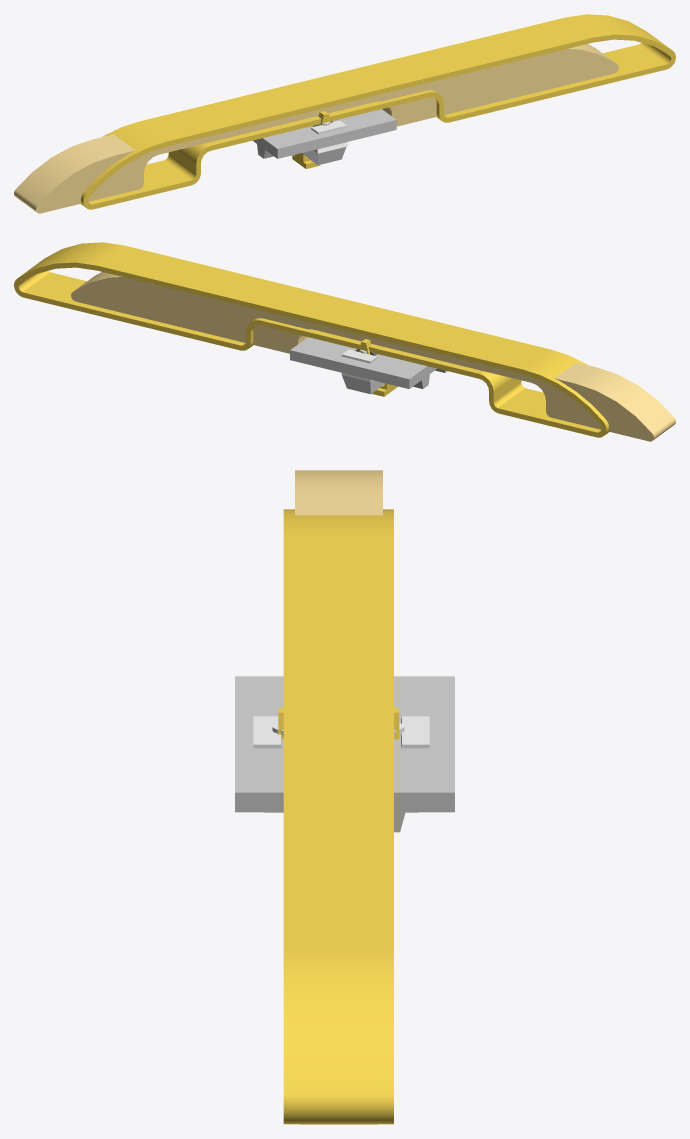
Rendered from Fil Merkezlenmiş.fbx.
3 renders of one model, top to bottom at view 1: azimuth 30°, elevation 25°; view 2: azimuth 150°, elevation 25°; view 3: azimuth 270°, elevation 25°, orthographic. The views are drawn at different scales.
Visible parts, largest first — view 1: machine-extensions, machine-insides, bridge-slabs, bridge-legs-stabile; view 2: machine-extensions, machine-insides, bridge-slabs, bridge-legs-stabile; view 3: machine-extensions, bridge-slabs, machine-insides, bridge-legs-stabile.
Part boxes in pixels (x1,y1,x2,y2): machine-extensions: (80,14,675,209); machine-insides: (14,44,618,213); bridge-slabs: (253,109,396,158); bridge-legs-stabile: (303,120,348,165); machine-extensions: (14,242,608,437); machine-insides: (71,272,675,441); bridge-slabs: (290,337,447,388); bridge-legs-stabile: (341,349,385,394); machine-extensions: (278,509,399,1124); bridge-slabs: (235,676,454,832); machine-insides: (295,470,382,515); bridge-legs-stabile: (253,716,429,812).
Bounding box in the file's own units: 5347 × 546 × 800.
